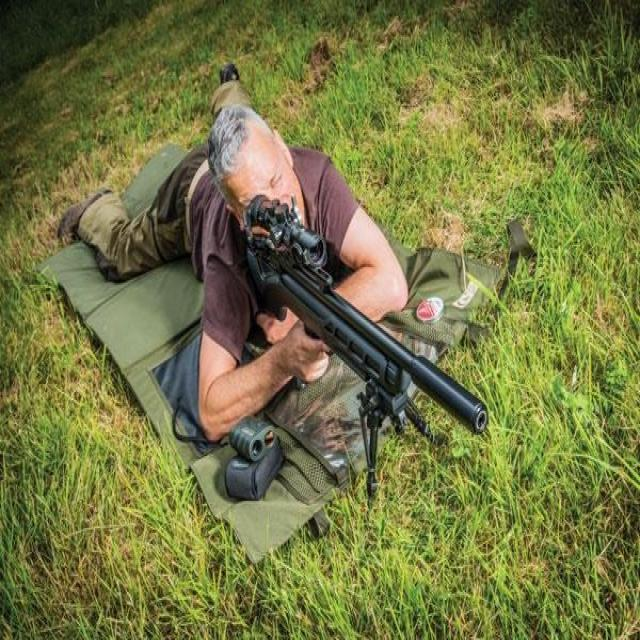gun: (246, 196, 489, 494)
